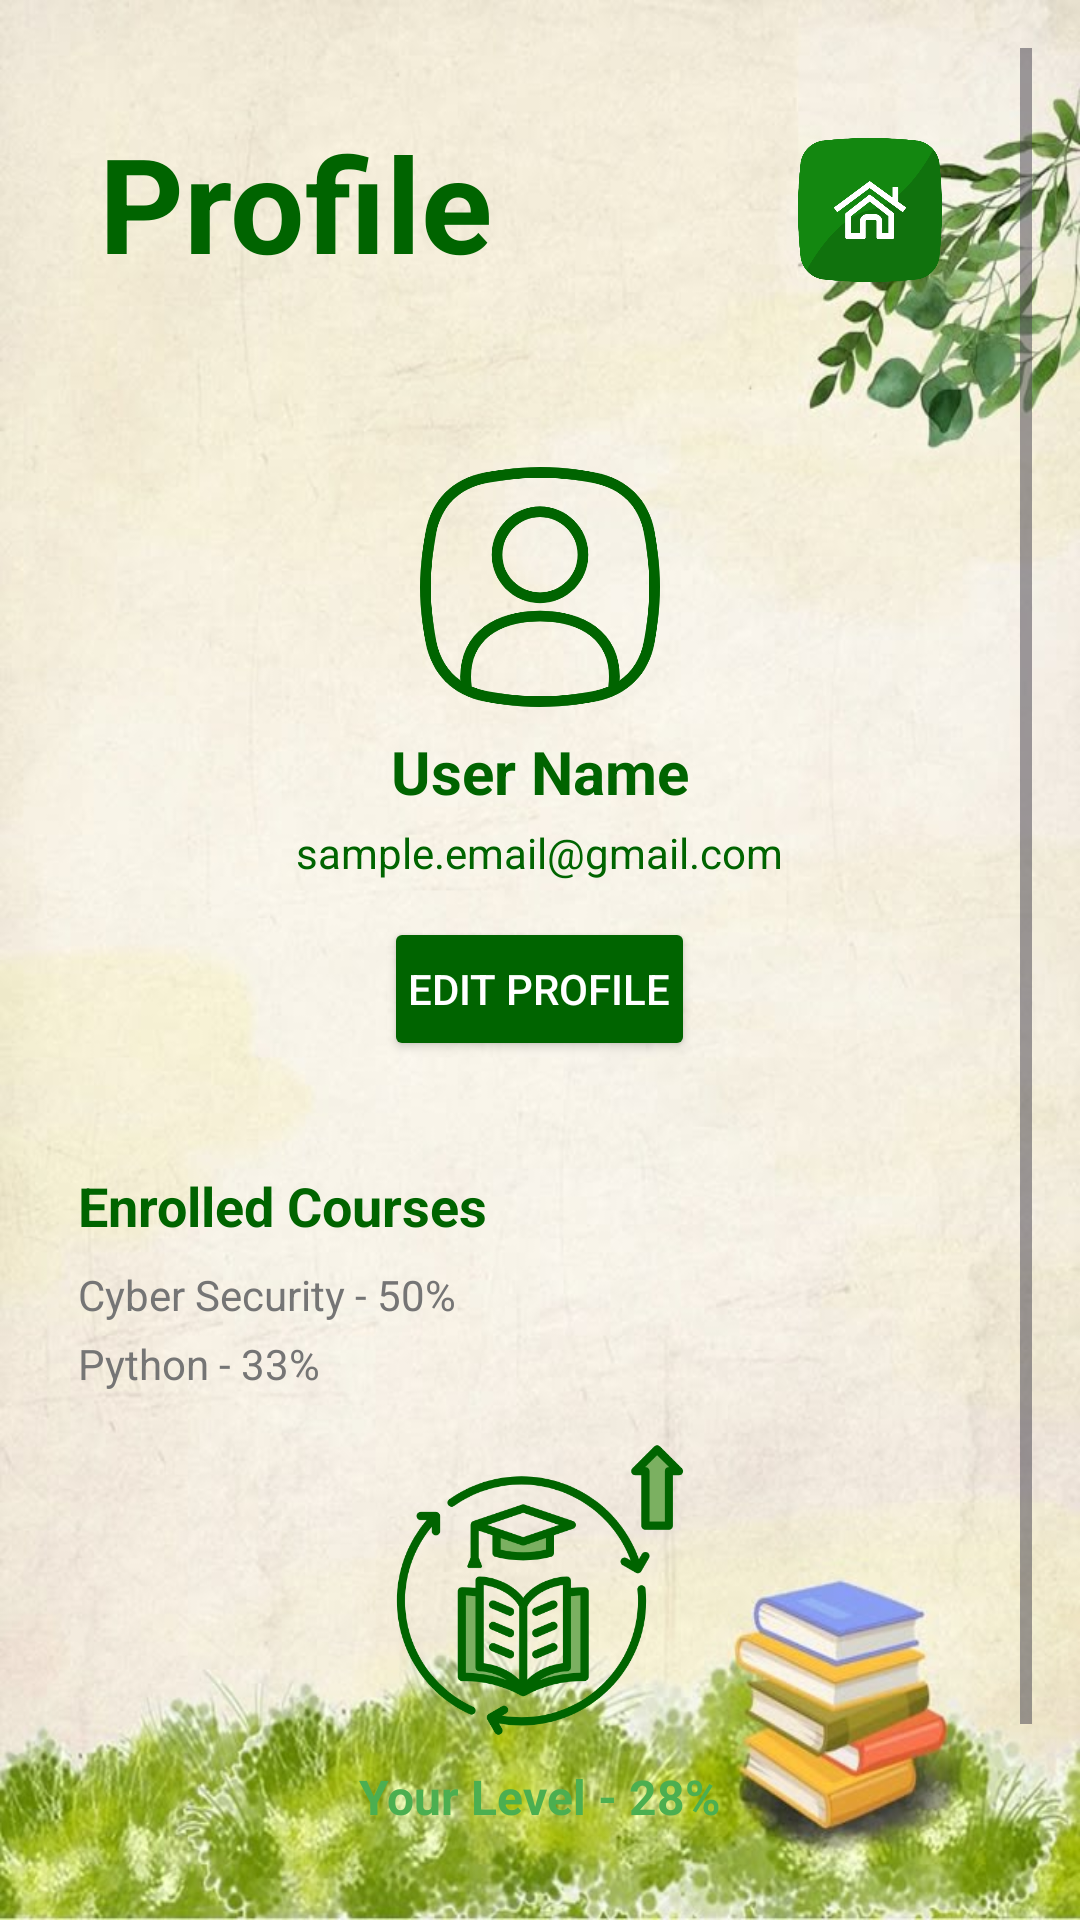

Locate icon controls on the screen. Image size 1080px×1920px, boxes as (x1, y1, x2, y2).
Home Icon: (798, 138, 942, 282)
